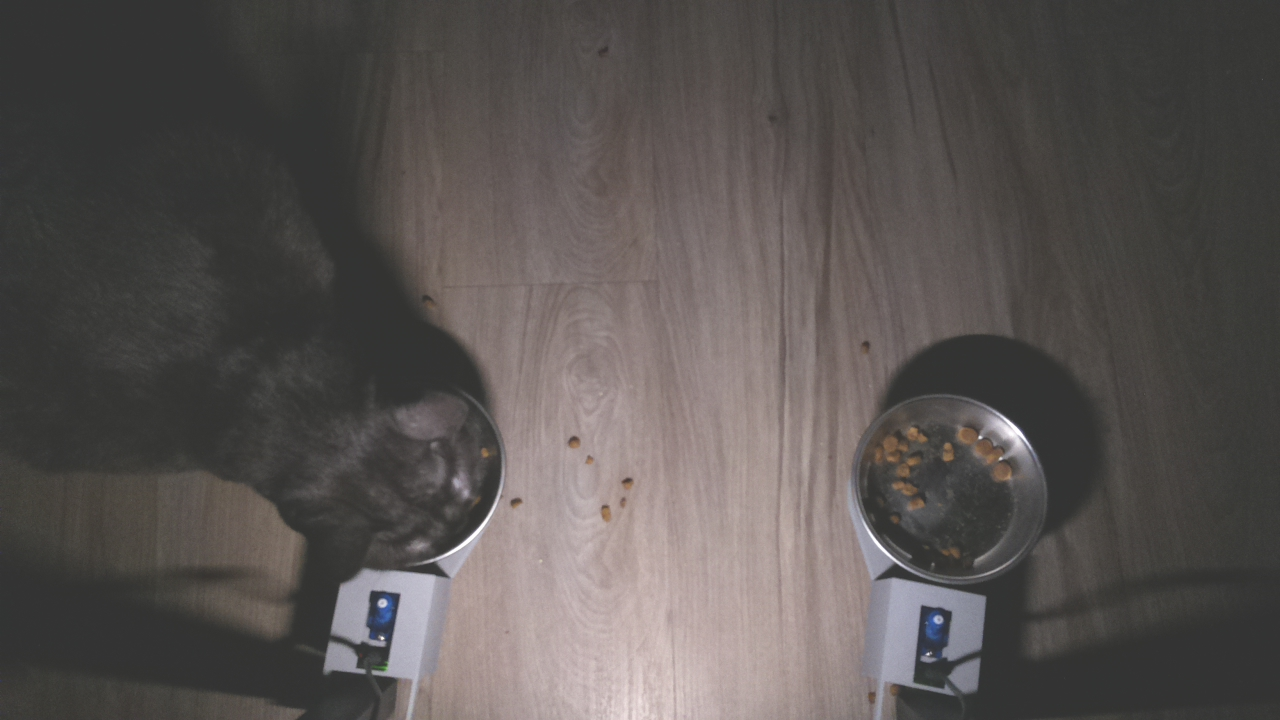open_bowl: (844, 385, 1054, 585)
saki_eating: (289, 321, 499, 601)
